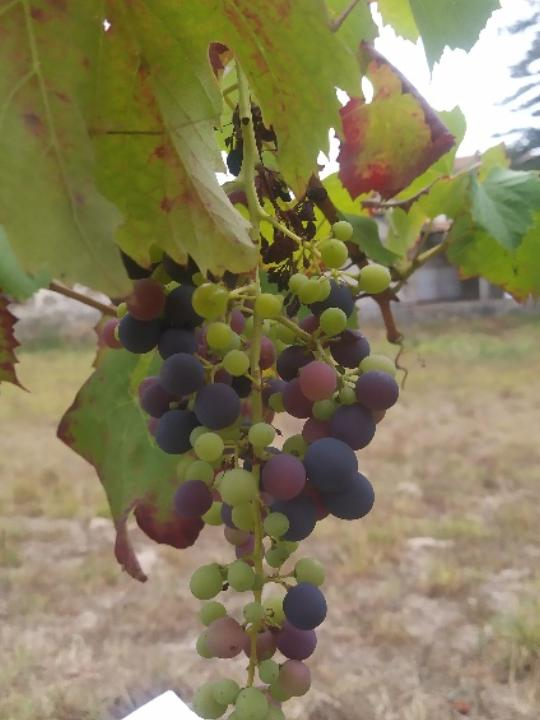grape: (109, 106, 400, 720)
